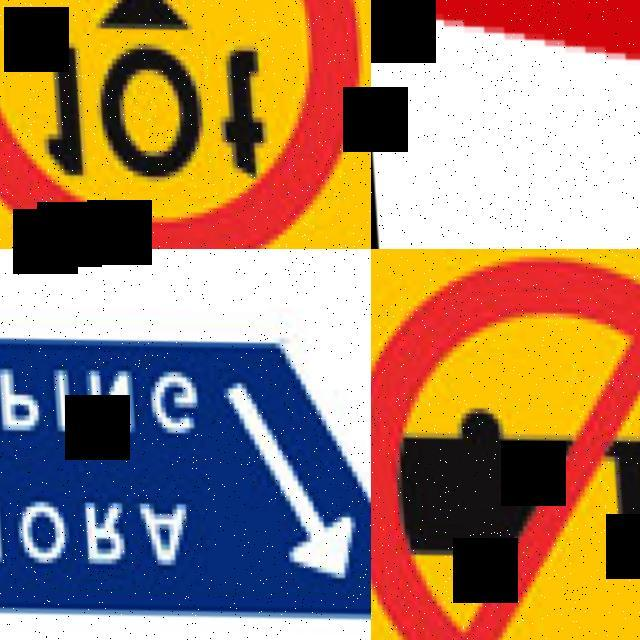3: (0, 312, 371, 640)
82: (371, 249, 640, 640), (0, 0, 371, 249)
Direction sign exit sign: (0, 312, 371, 640)
Level crossing countdown marker: (371, 0, 640, 249)
two way traffic: (0, 249, 371, 640)
